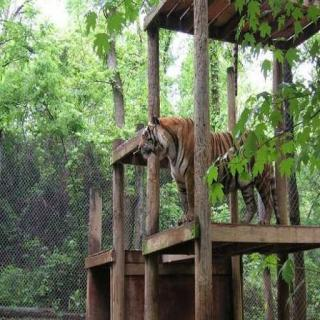Tiger: (134, 106, 282, 215)
